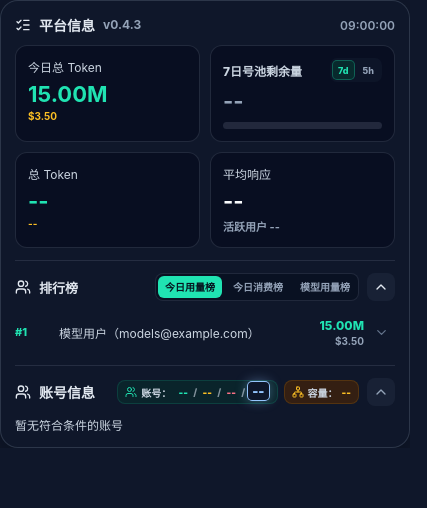
App settings sync › keeps an expanded ranking user open while refreshing metrics
Click the button with class "ranking-row": [202, 332] box [15,311,389,353]
Wait 10000 ms
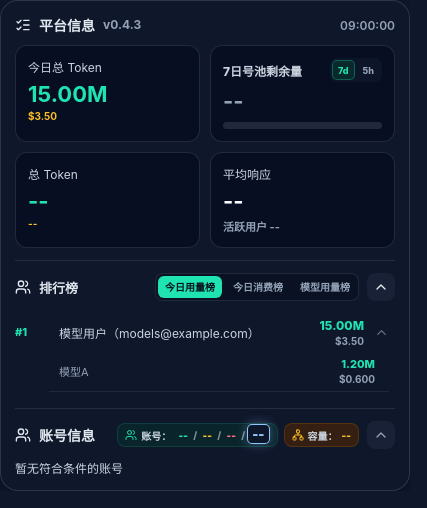
expect the element with class "ranking-model-list" is shown: met, box [49,353,389,392]
expect the text "模型A" is shown: met, box [59,365,89,379]
